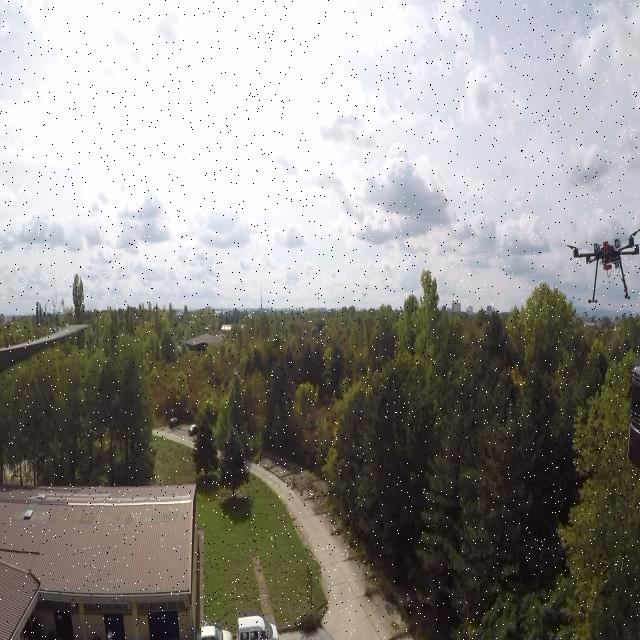UAV: (563, 225, 640, 307)
